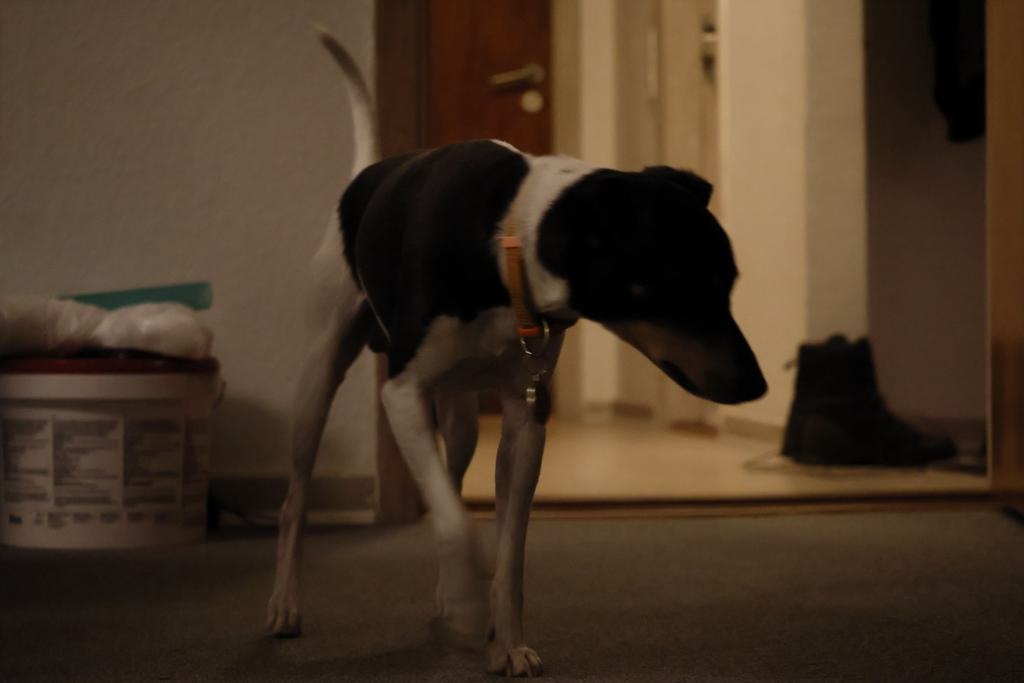Dog: (257, 14, 774, 683)
